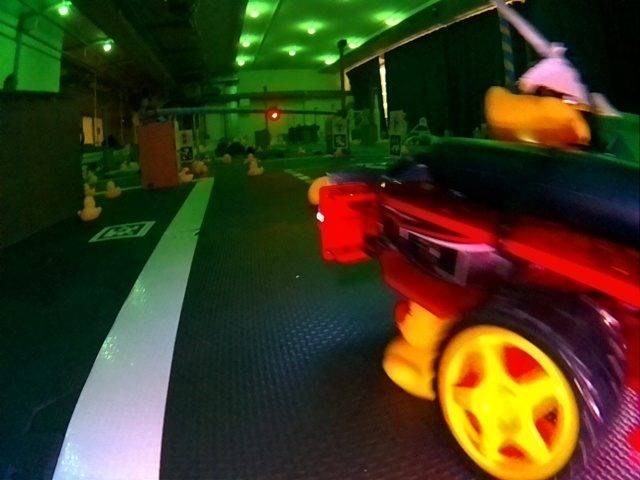Duckie: (486, 47, 589, 146), (383, 298, 447, 393), (79, 198, 101, 219), (105, 183, 120, 196), (248, 163, 260, 175), (194, 162, 207, 173), (180, 169, 192, 179)
Duckiebot: (368, 142, 636, 477)
QR code: (88, 220, 156, 243)
Traffic light: (270, 105, 281, 121)
